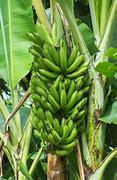banana: (23, 36, 87, 151)
